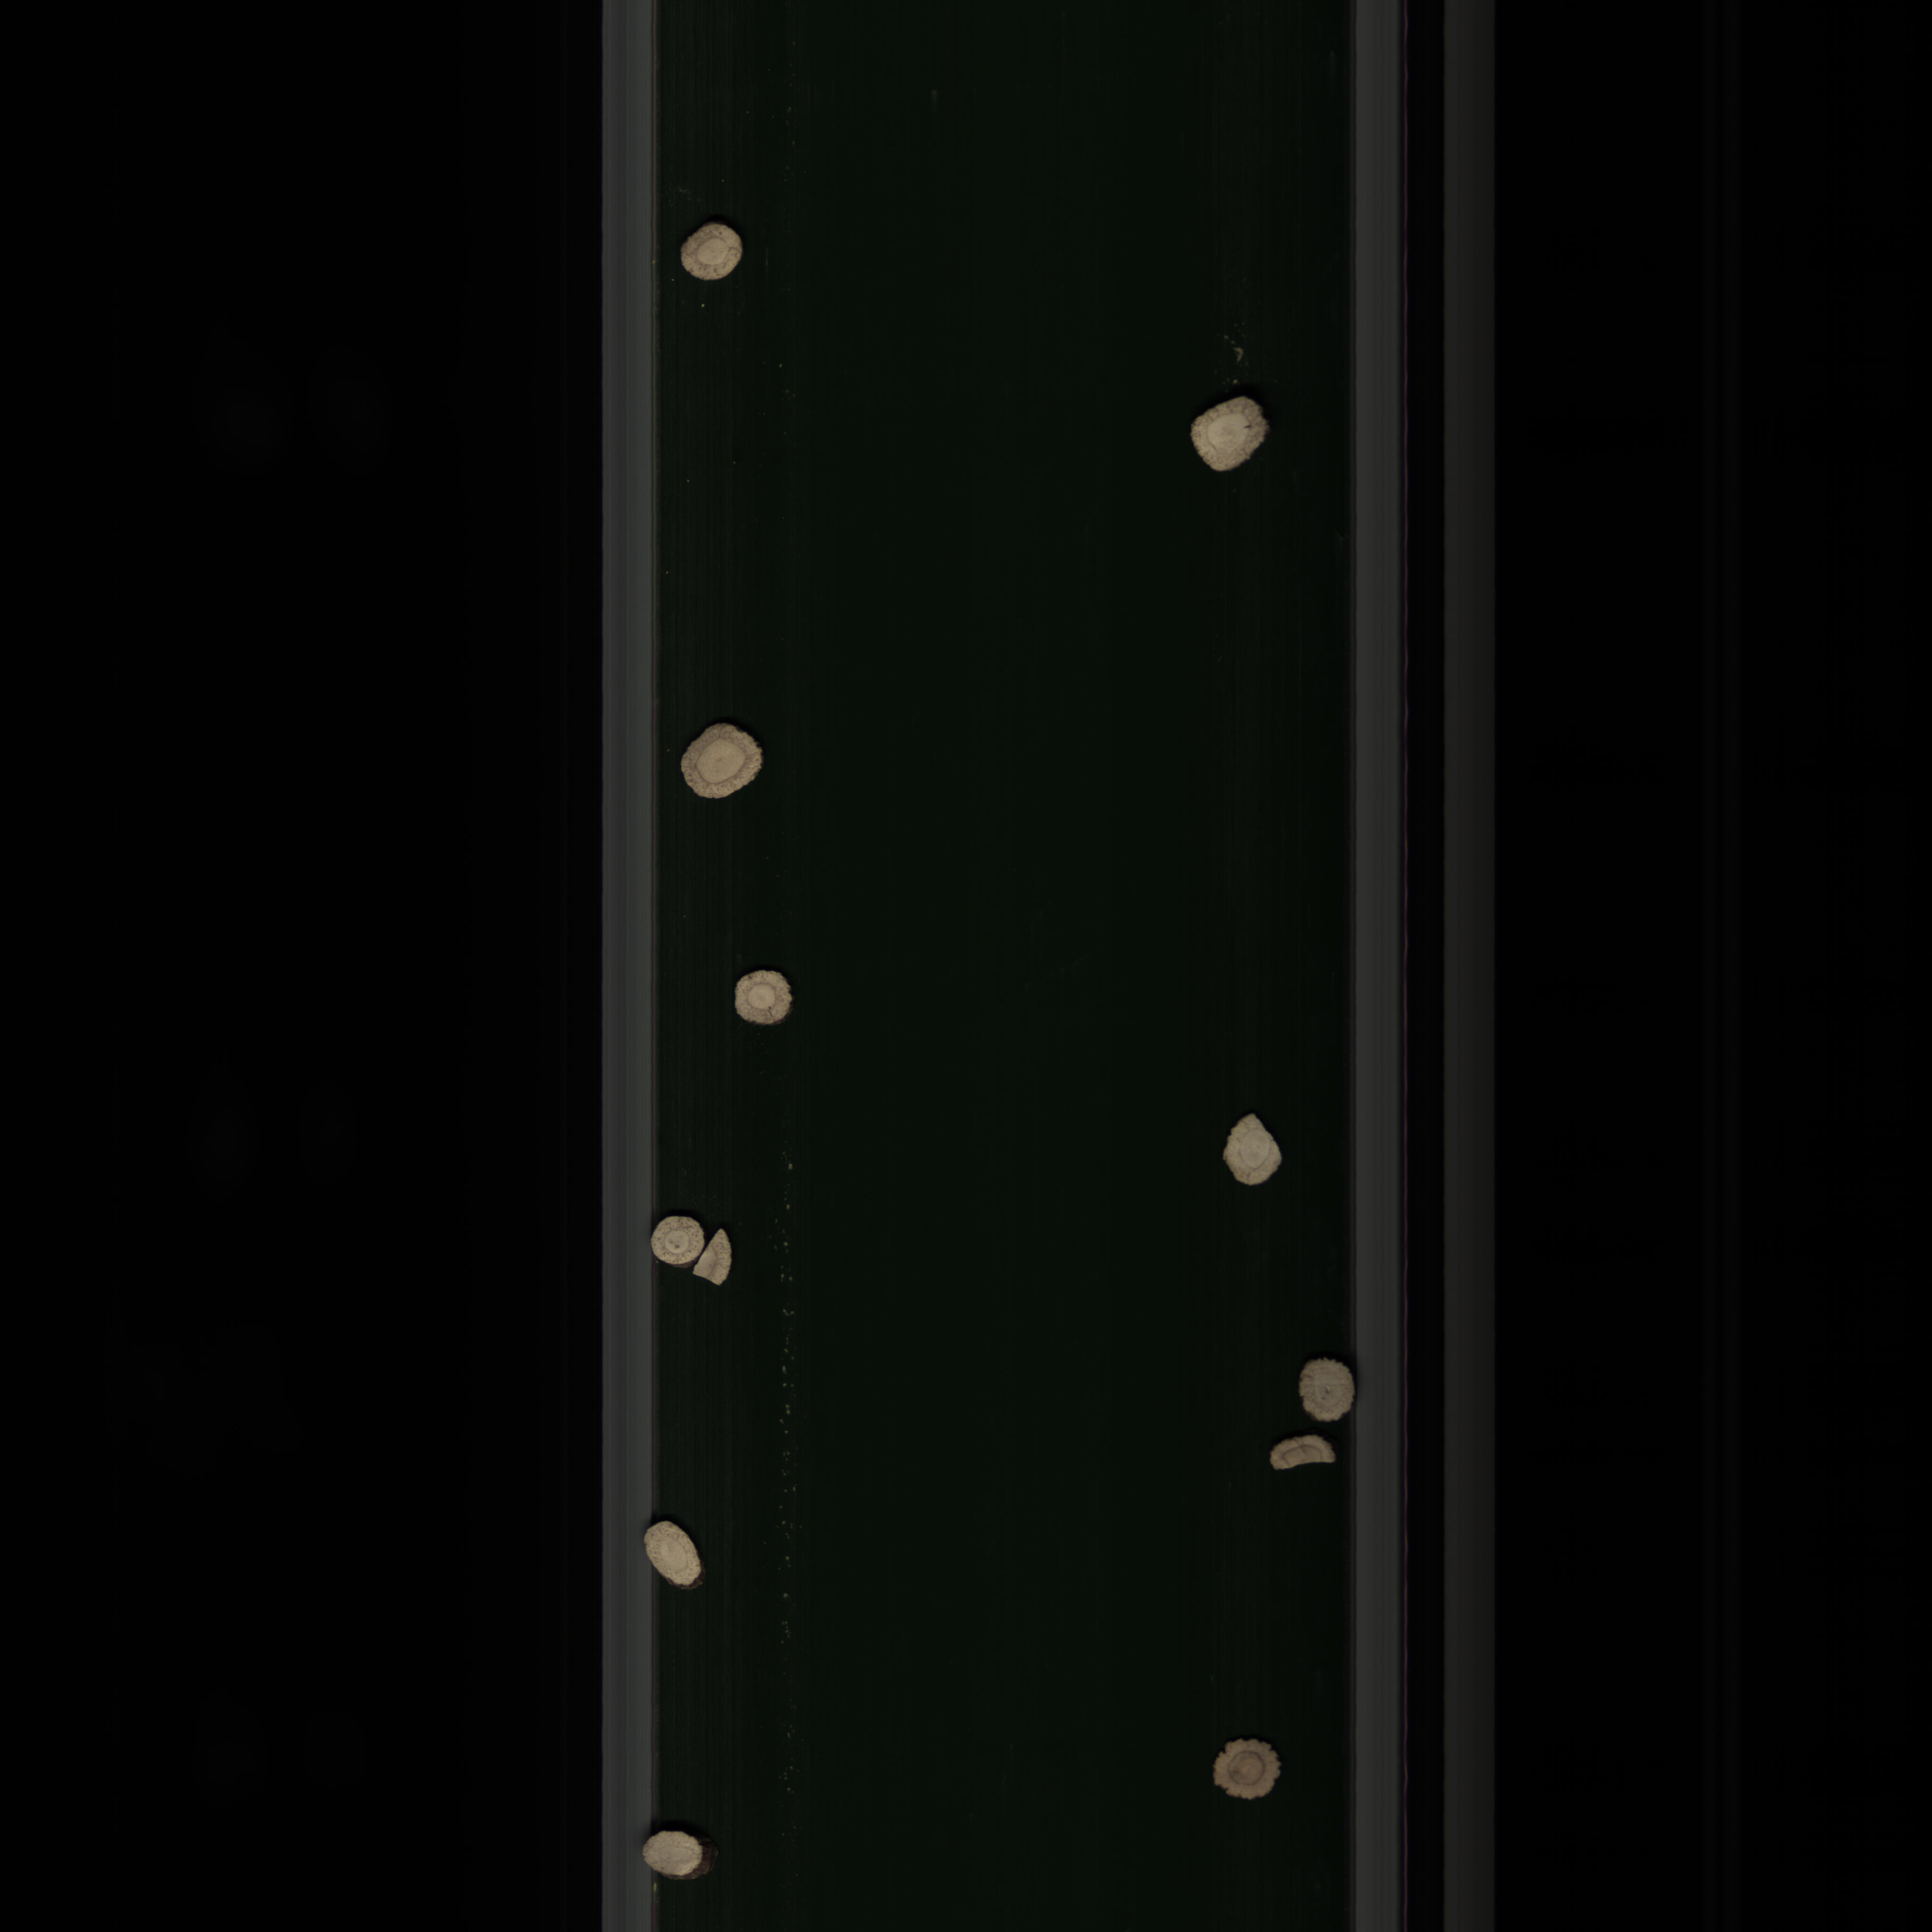debris: (1223, 1102, 1295, 1205), (695, 1226, 752, 1299), (1265, 1430, 1339, 1470)
